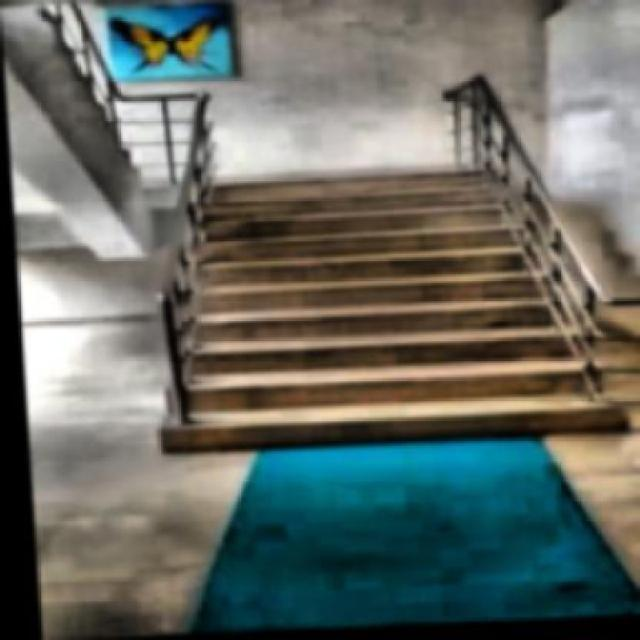stair: (164, 168, 624, 457)
